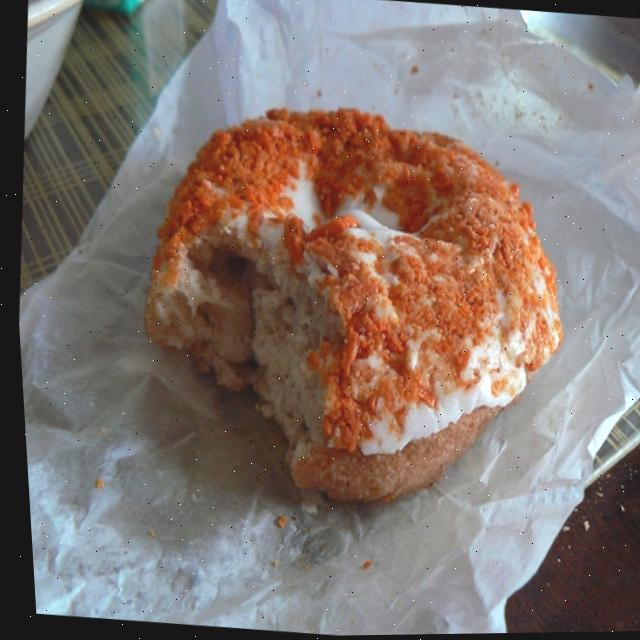炸货点心: (72, 14, 627, 588)
